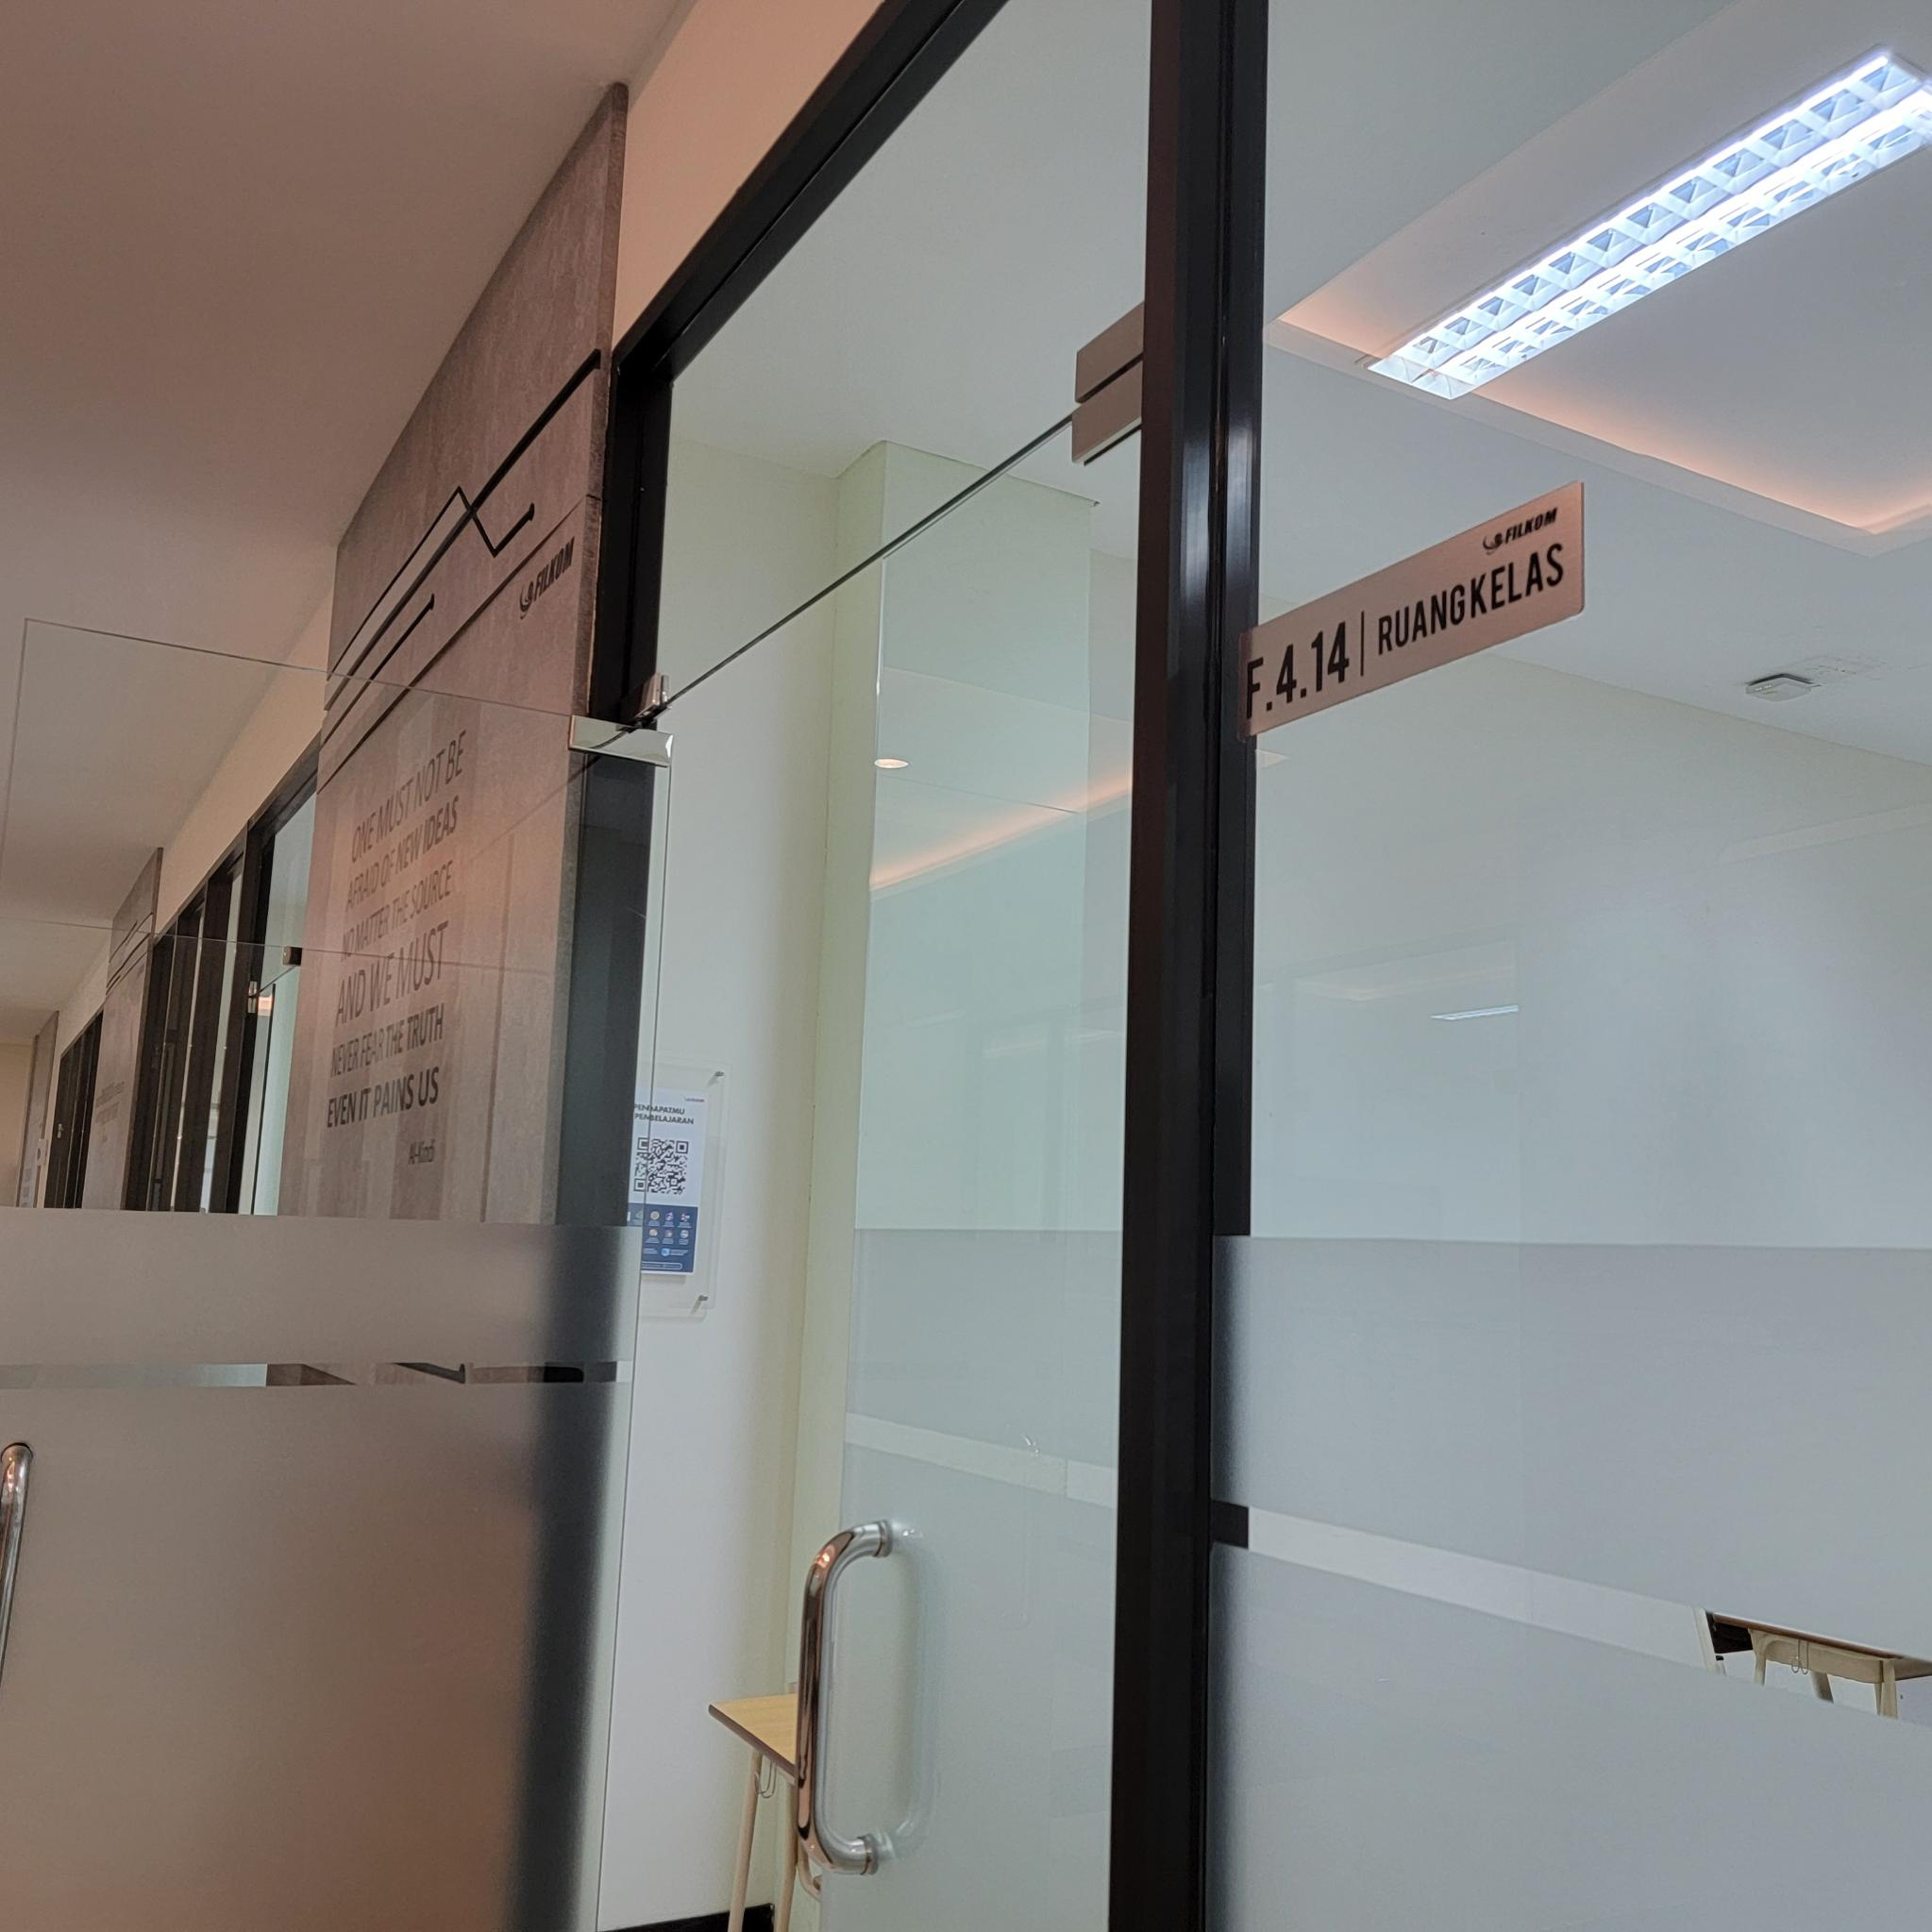plate: (1235, 478, 1589, 743)
